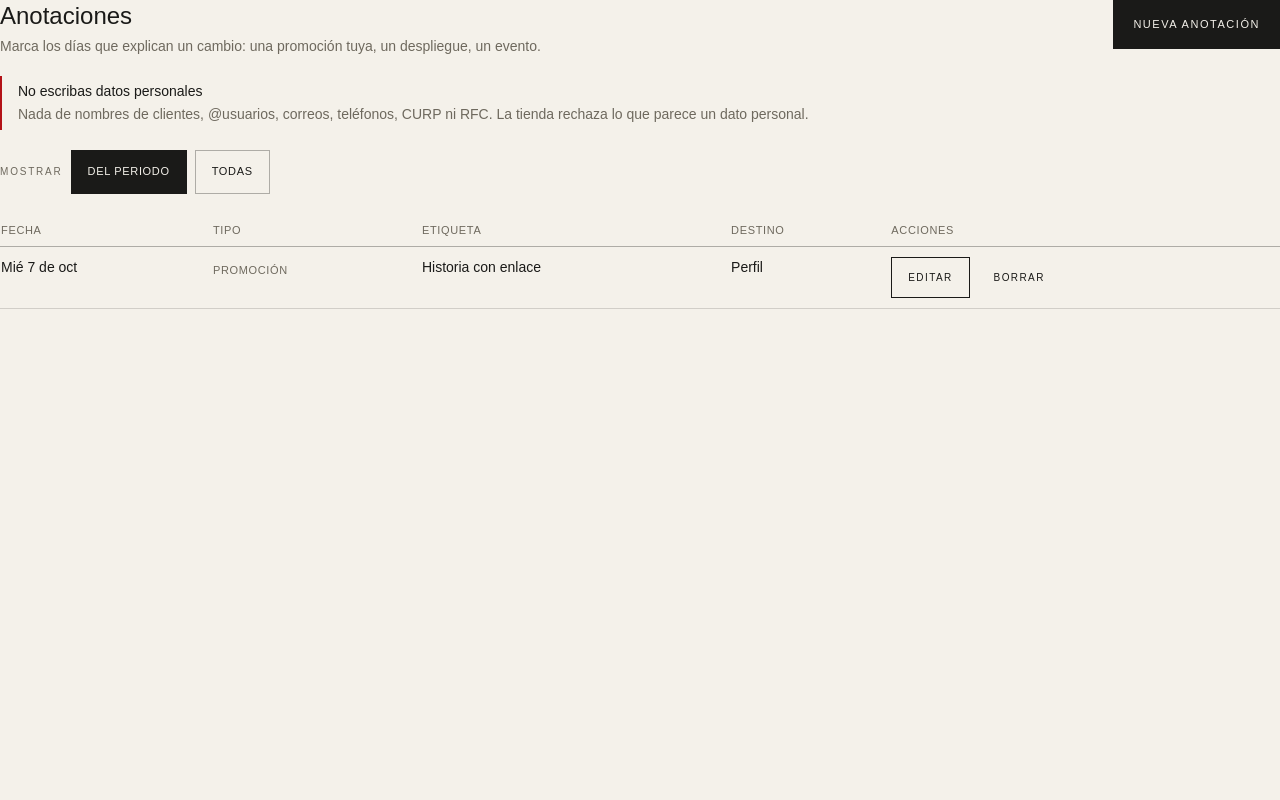
UX-MKT-12 · aviso de datos personales y 422 › el aviso se ve sobre la lista y dentro del formulario ANTES de escribir nada
This screenshot has width=1280, height=800.
Check: the table with test id "mkt-ann-table" is shown, box left=0, top=214, right=1279, bottom=309
Click the button with test id "mkt-ann-new" at (1197, 24), box left=1113, top=0, right=1279, bottom=48
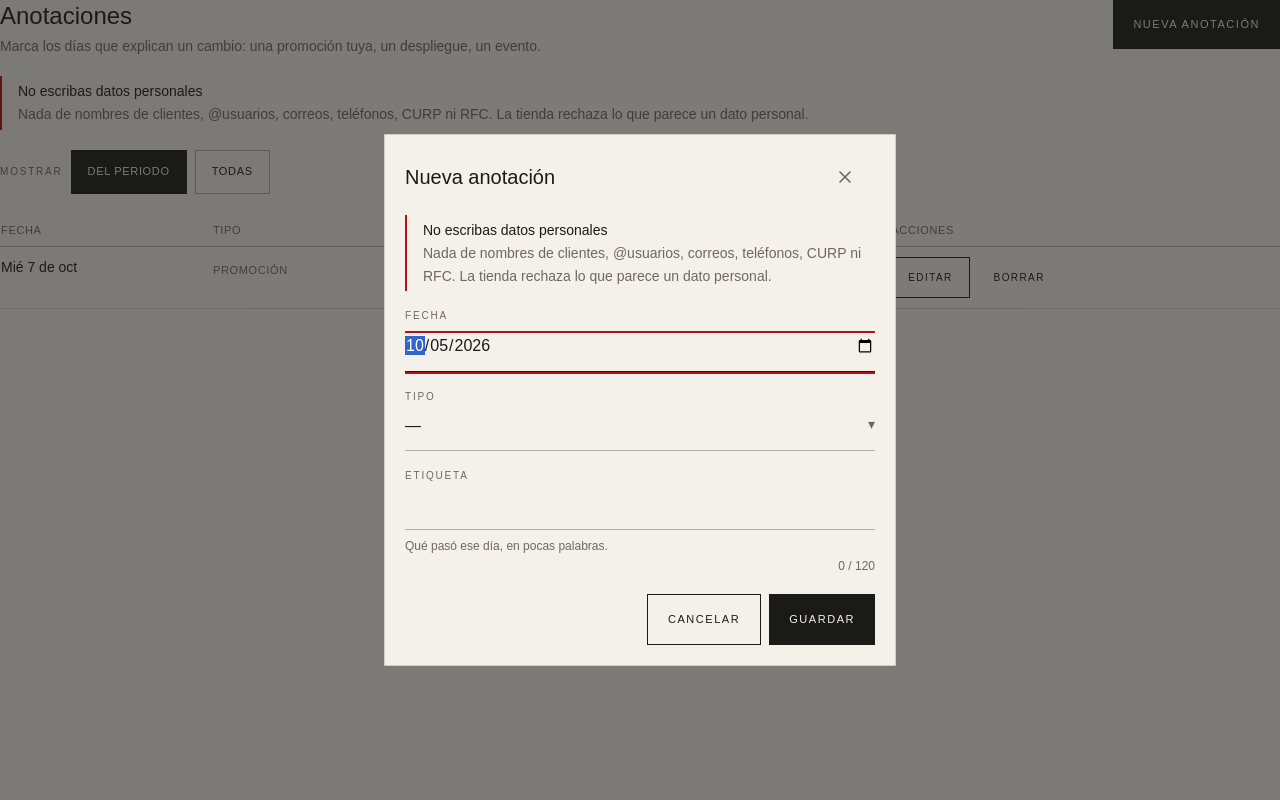
Check: the text with test id "mkt-ann-pii" shows "Nada de nombres de clientes, @usuarios, correos", box left=423, top=245, right=861, bottom=284
